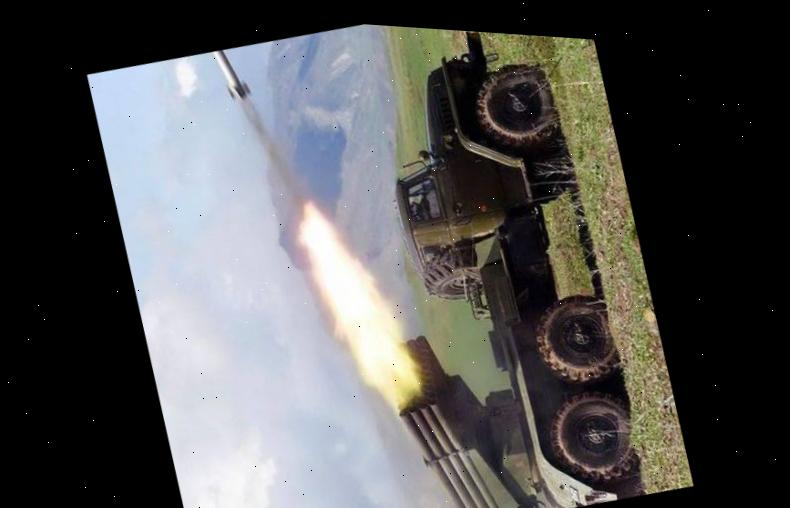rszo: (291, 24, 675, 508)
